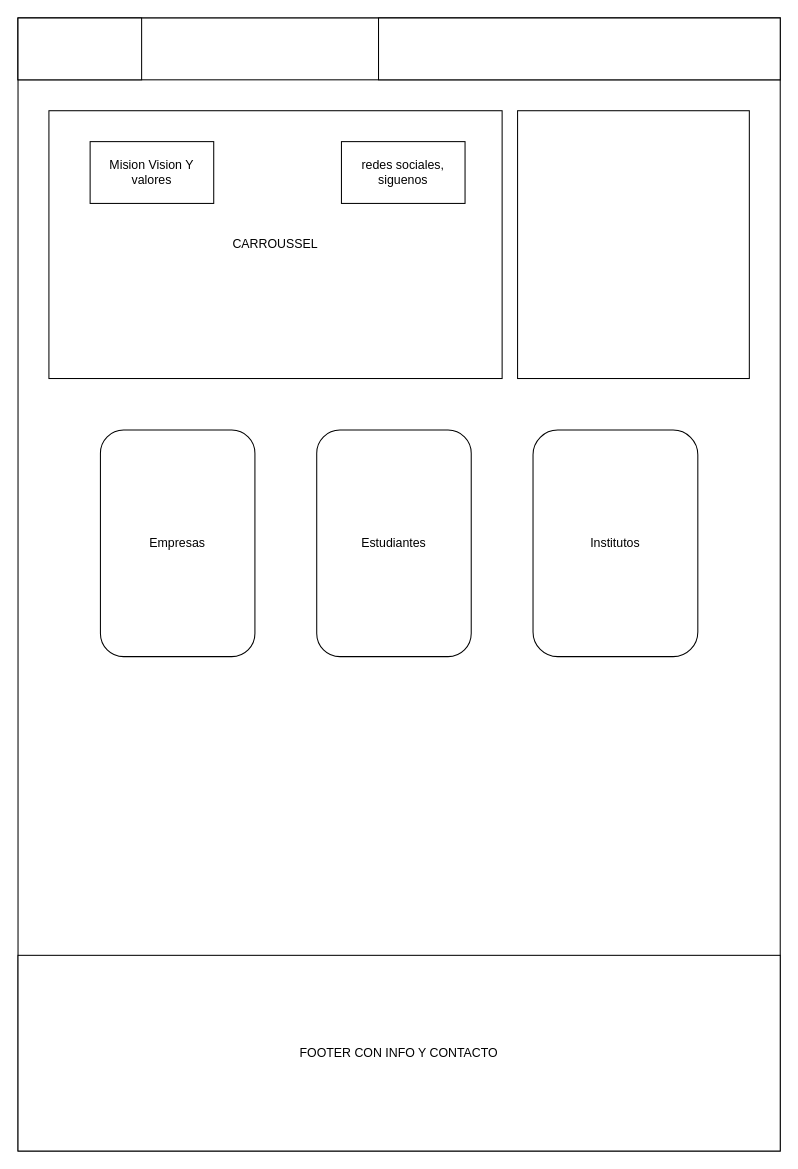
The diagram is 798 pixels wide and 1169 high, and some of its shapes have lost their labels. The shapes that lost their labels are listed below. From the top down, each one's centre as x and y in pixels, then its label:
At point 79,48: "FCTLink".
At point 578,48: "Home Empresa Estudiante Instituto Contact".
At point 633,244: "Información sobre nosotros".
